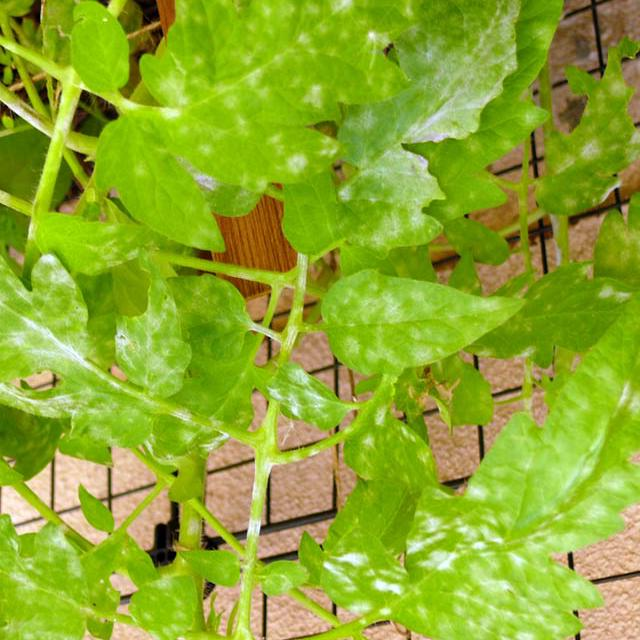Tomato mold leaf: (377, 150, 640, 634), (82, 0, 421, 253), (0, 139, 187, 450), (302, 273, 549, 378), (0, 475, 137, 640), (246, 360, 338, 431)
